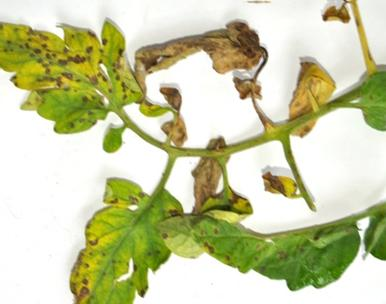Tomato Septoria leaf spot: (153, 194, 370, 294), (0, 9, 139, 131), (65, 171, 191, 304)
